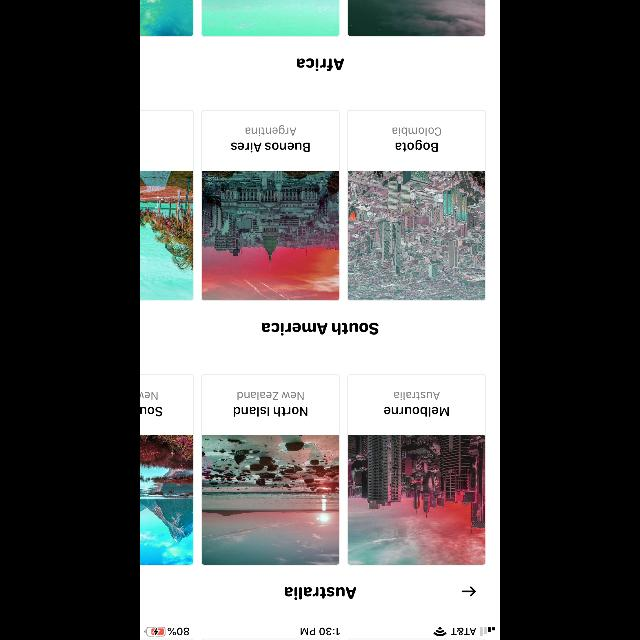icon: (462, 586, 476, 596)
image: (348, 170, 484, 300), (202, 172, 338, 300), (202, 436, 338, 564), (348, 436, 484, 564), (140, 172, 193, 300), (140, 436, 193, 564), (202, 1, 338, 36), (348, 1, 484, 36), (140, 1, 193, 36)
text: (262, 322, 378, 336), (284, 586, 356, 600), (230, 142, 310, 152), (233, 407, 307, 417), (296, 58, 344, 72), (384, 407, 448, 417), (238, 392, 304, 401), (246, 125, 296, 136), (396, 140, 438, 152), (394, 392, 440, 401), (392, 128, 442, 136), (140, 406, 162, 416), (140, 392, 158, 400)
uppertaskbar: (140, 626, 500, 640)
